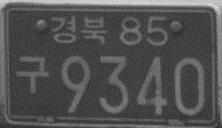0: (173, 56, 205, 115)
3: (98, 54, 129, 115)
4: (135, 56, 168, 116)
5: (146, 15, 168, 46)
8: (119, 15, 143, 46)
9: (60, 54, 91, 114)
경북_O: (49, 15, 108, 46)
구: (14, 54, 50, 93)
